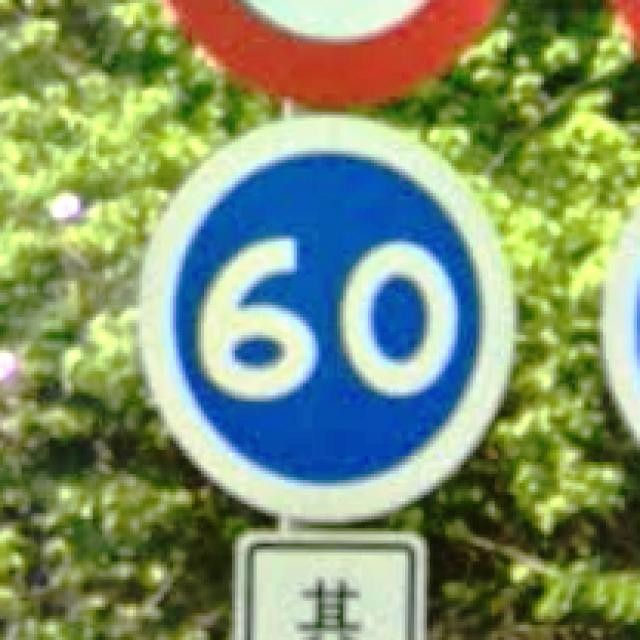min60: (133, 109, 516, 519)
